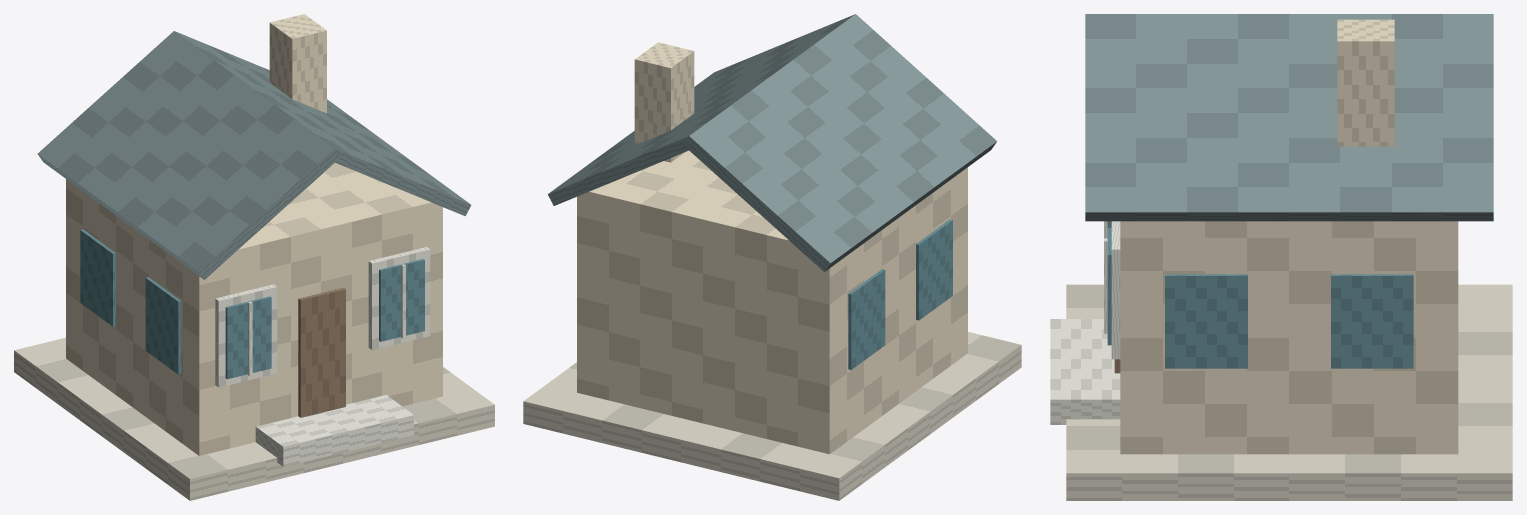
The model's file is cottage.glb.
3 views of the same model, side by side, from view 1: azimuth 30°, elevation 25°; view 2: azimuth 150°, elevation 25°; view 3: azimuth 270°, elevation 25° (orthographic). The views are drawn at different scales.
Visible parts, largest first — view 1: Plaster walls, Pitched metal roof (×2), Foundation, Porch, Window (×2), Door, Side window (×2), Window frame (×2), Chimney; view 2: Plaster walls, Pitched metal roof (×2), Foundation, Side window (×2), Chimney; view 3: Pitched metal roof, Plaster walls, Foundation, Side window (×2), Chimney, Porch, Window frame, Window.
Boxes of the visible parts, x1,y1,x2,y2 form: Plaster walls: (66,163,442,455); Pitched metal roof (×2): (37,31,471,279); Foundation: (14,337,494,500); Porch: (255,395,413,466); Window (×2): (225,259,424,379); Door: (298,287,345,417); Side window (×2): (80,229,181,374); Window frame (×2): (215,247,430,387); Chimney: (269,14,326,113); Plaster walls: (577,150,967,454); Pitched metal roof (×2): (548,14,996,271); Foundation: (523,332,1021,500); Side window (×2): (848,219,952,369); Chimney: (634,42,694,162); Pitched metal roof: (1085,14,1493,221); Plaster walls: (1120,221,1458,454); Foundation: (1066,284,1512,500); Side window (×2): (1165,274,1413,368); Chimney: (1337,19,1394,146); Porch: (1050,319,1120,424); Window frame: (1111,221,1120,359); Window: (1107,227,1111,345).
Size of the model in its own units: 3.5 by 3.65 by 3.62.
Materials: 6 (6 with a texture image).
